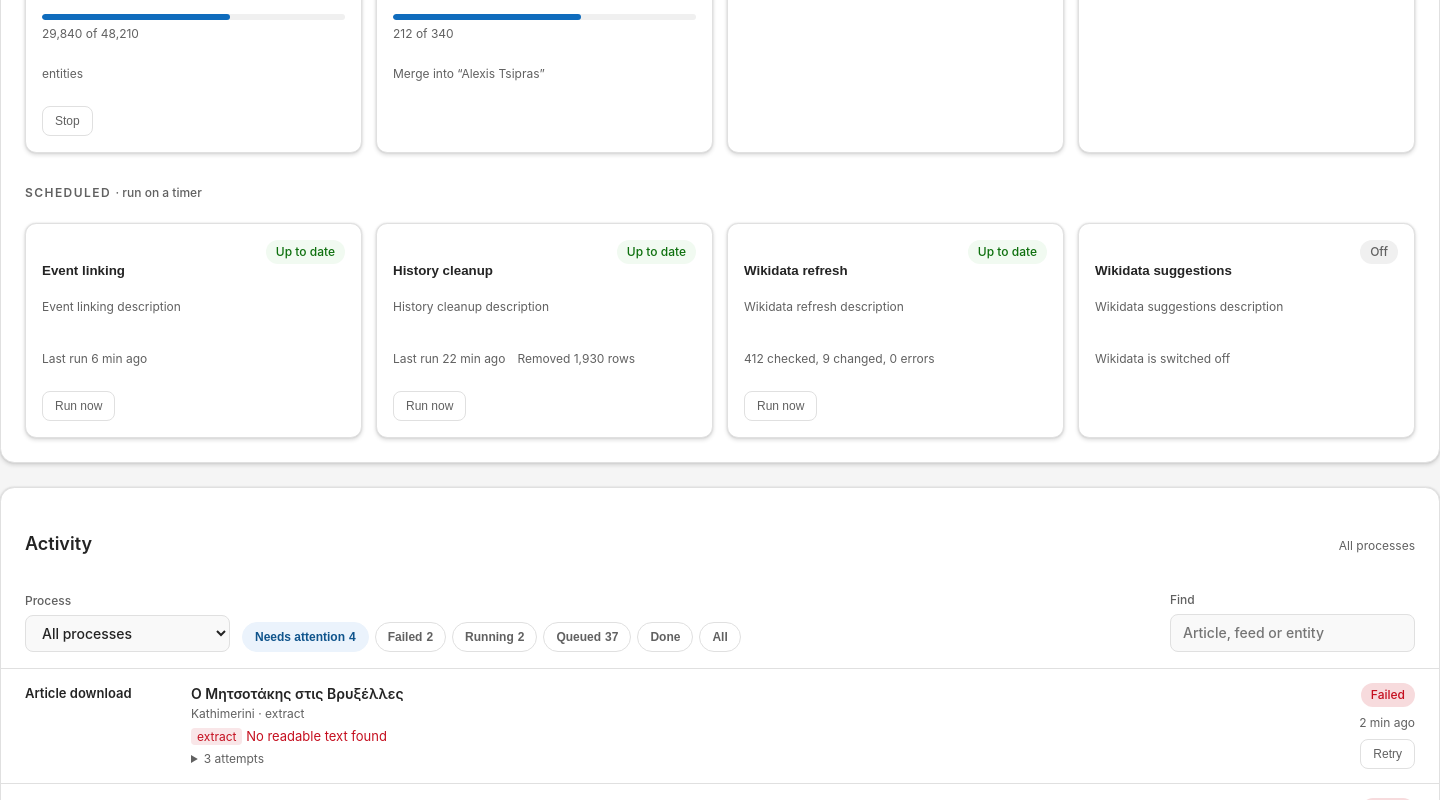
Scenario: says why an action was refused
The image size is (1440, 800).
(page scrolled)
Step 1. Click the button "Run now" below "412 checked, 9 changed, 0 errors" → (781, 406), box [744,390,817,420]
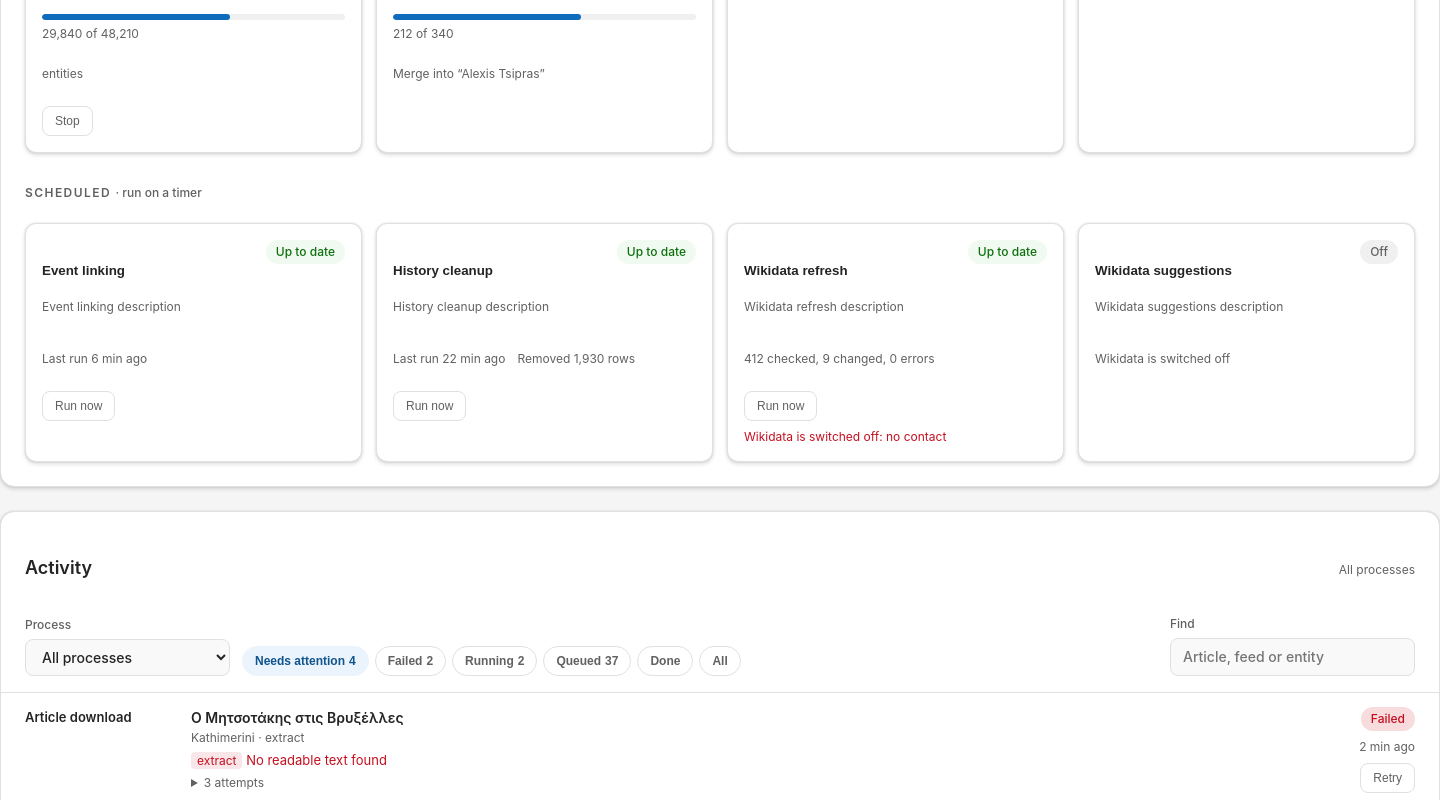
Expected: the text "Wikidata is switched off: no contact" is shown, [744,428,946,444]
